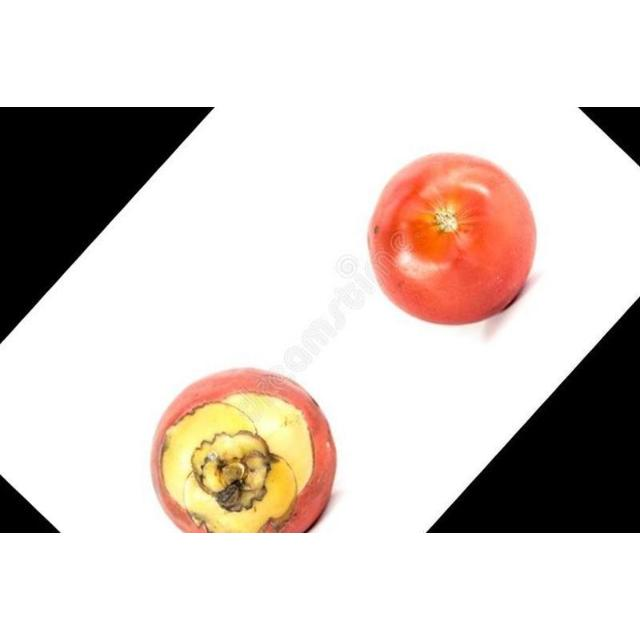good: (148, 369, 340, 533), (368, 152, 538, 327)
